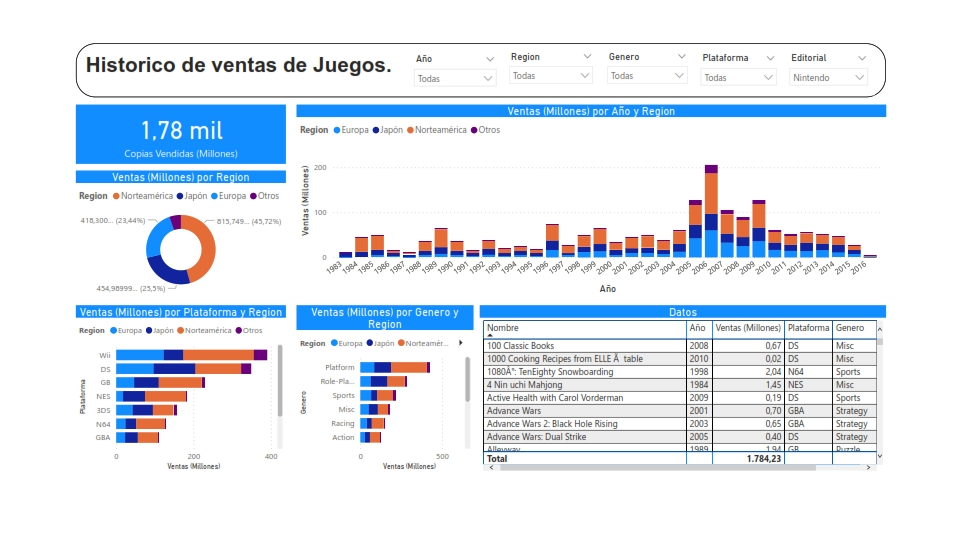

This screenshot's page, from the dashboard's own definition file:
{"tool":"powerbi","page":{"name":"REPORTE DE VENTAS","canvas":[1280,720],"ordinal":0},"visuals":[{"type":"textbox","box":[18.4,11.3,1246.2,83.5],"z":0},{"type":"tableEx","title":"Datos","fields":{"Values":["Ventas Videojuegos.Nombre","Ventas Videojuegos.Año","Ventas Videojuegos.Ventas (Millones)","Ventas Videojuegos.Plataforma","Ventas Videojuegos.Genero","Ventas Videojuegos.Editorial"]},"box":[639.4,414.5,625.2,258.9],"z":1000},{"type":"columnChart","fields":{"Category":["Ventas Videojuegos.Año"],"Y":["Ventas Videojuegos.Ventas (Millones)"],"Series":["Ventas Videojuegos.Region"]},"box":[357.9,106.1,906.7,295.6],"z":2000},{"type":"donutChart","fields":{"Category":["Ventas Videojuegos.Region"],"Y":["Ventas Videojuegos.Ventas (Millones)"]},"box":[18.4,206.5,322.5,195.2],"z":3000},{"type":"barChart","fields":{"Category":["Ventas Videojuegos.Plataforma"],"Y":["Ventas Videojuegos.Ventas (Millones)"],"Series":["Ventas Videojuegos.Region"]},"box":[18.4,414.5,322.5,258.9],"z":4000},{"type":"barChart","fields":{"Y":["Ventas Videojuegos.Ventas (Millones)"],"Series":["Ventas Videojuegos.Region"],"Category":["Ventas Videojuegos.Genero"]},"box":[357.9,414.5,271.6,258.9],"z":5000},{"type":"card","fields":{"Values":["Ventas Videojuegos.Ventas (Millones)"]},"box":[18.4,106.1,322.5,90.5],"z":6000},{"type":"slicer","fields":{"Values":["Ventas Videojuegos.Año"]},"box":[528.4,22.5,146.5,60.6],"z":7000},{"type":"slicer","fields":{"Values":["Ventas Videojuegos.Region"]},"box":[674.9,18.3,149.4,70.5],"z":8000},{"type":"slicer","fields":{"Values":["Ventas Videojuegos.Genero"]},"box":[825.7,18.3,143.7,70.5],"z":9000},{"type":"slicer","fields":{"Values":["Ventas Videojuegos.Plataforma"]},"box":[969.4,21.1,136.7,70.5],"z":10000},{"type":"slicer","fields":{"Values":["Ventas Videojuegos.Editorial"]},"box":[1106.1,21.1,140.9,70.5],"z":11000}]}

Visuals, with their boxes in screenshot pixels (x1, y1, x2, y2), scaled from the page's 1280x720 canvas onto the 960x540 screenshot:
textbox: x1=14, y1=8, x2=948, y2=71
"Datos" tableEx: x1=480, y1=311, x2=948, y2=505
columnChart - Ventas Videojuegos.Año x Ventas Videojuegos.Ventas (Millones): x1=268, y1=80, x2=948, y2=301
donutChart - Ventas Videojuegos.Region x Ventas Videojuegos.Ventas (Millones): x1=14, y1=155, x2=256, y2=301
barChart - Ventas Videojuegos.Plataforma x Ventas Videojuegos.Ventas (Millones): x1=14, y1=311, x2=256, y2=505
barChart - Ventas Videojuegos.Ventas (Millones) x Ventas Videojuegos.Region: x1=268, y1=311, x2=472, y2=505
card - Ventas Videojuegos.Ventas (Millones): x1=14, y1=80, x2=256, y2=147
slicer - Ventas Videojuegos.Año: x1=396, y1=17, x2=506, y2=62
slicer - Ventas Videojuegos.Region: x1=506, y1=14, x2=618, y2=67
slicer - Ventas Videojuegos.Genero: x1=619, y1=14, x2=727, y2=67
slicer - Ventas Videojuegos.Plataforma: x1=727, y1=16, x2=830, y2=69
slicer - Ventas Videojuegos.Editorial: x1=830, y1=16, x2=935, y2=69
